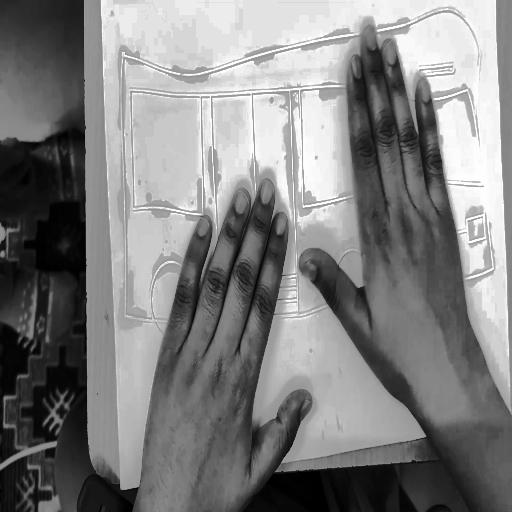bottom_left: (119, 482, 125, 497)
bus: (92, 3, 512, 367)
